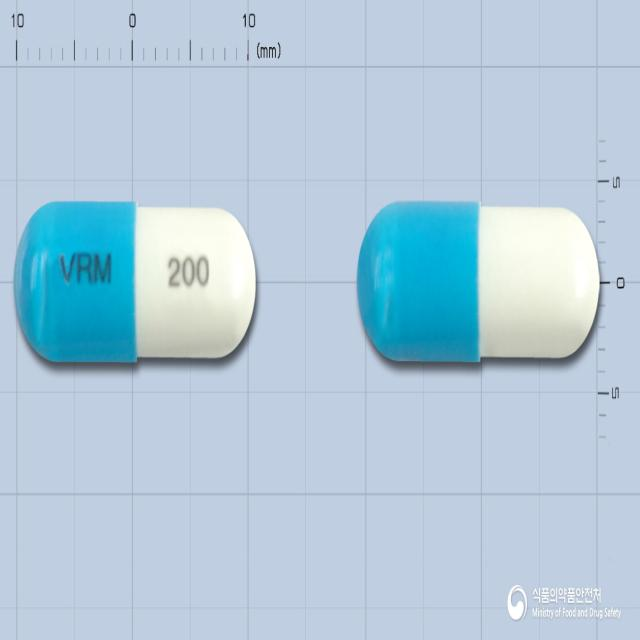Leflunomide Myungmoon -20mg: (15, 198, 257, 366)
